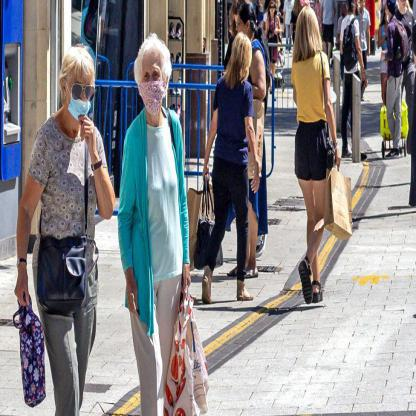person: (29, 46, 112, 416), (118, 32, 192, 416), (206, 31, 259, 303), (290, 9, 332, 312), (338, 0, 367, 162), (381, 0, 406, 159), (263, 0, 283, 87)
